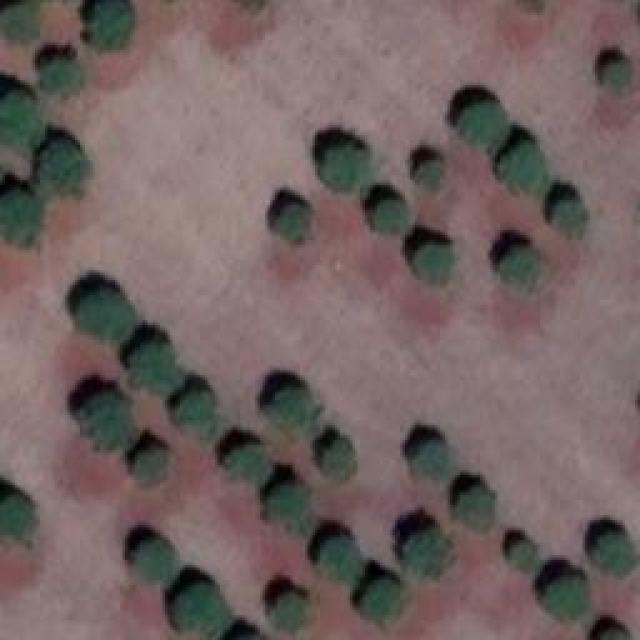Tree: (77, 290, 135, 343), (177, 582, 225, 640), (80, 393, 130, 448), (38, 143, 88, 196), (0, 93, 40, 153), (500, 143, 548, 193), (268, 390, 321, 433), (130, 345, 180, 390), (0, 189, 42, 242), (455, 103, 505, 146), (88, 0, 131, 48), (322, 148, 370, 191), (318, 538, 361, 583), (138, 540, 178, 585), (270, 483, 310, 528), (545, 578, 588, 618), (500, 247, 540, 285), (407, 533, 445, 573), (0, 2, 38, 40), (230, 445, 268, 483), (178, 393, 213, 433), (415, 242, 450, 280), (595, 535, 630, 573), (0, 497, 32, 537), (42, 60, 80, 93), (455, 490, 490, 525), (370, 200, 410, 230), (135, 448, 173, 478), (413, 443, 446, 476), (368, 580, 401, 613), (280, 202, 308, 240), (555, 200, 585, 233), (275, 598, 308, 628), (325, 443, 355, 473), (605, 63, 633, 93), (418, 162, 443, 190), (510, 540, 535, 568)
